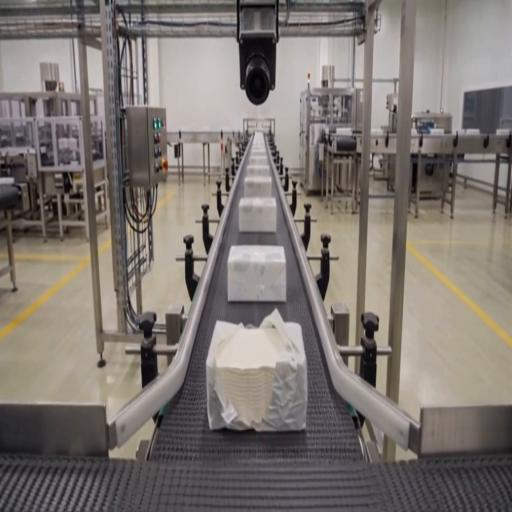defective: (206, 314, 306, 432)
good: (227, 245, 287, 304), (237, 196, 278, 234), (243, 175, 272, 199), (246, 159, 270, 176), (248, 143, 269, 161), (250, 133, 268, 147)
